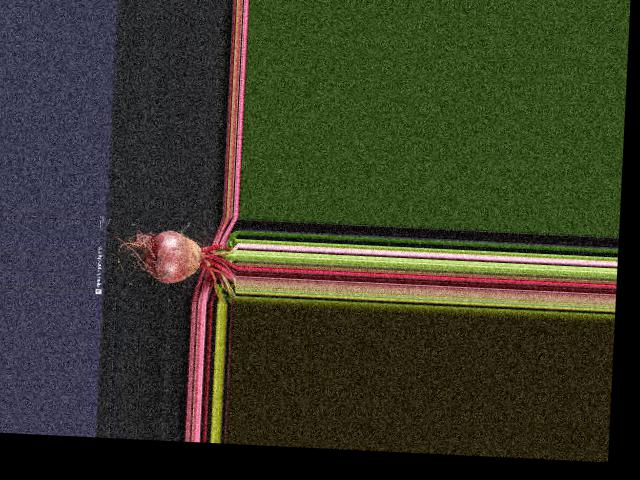beet: (110, 227, 238, 304)
